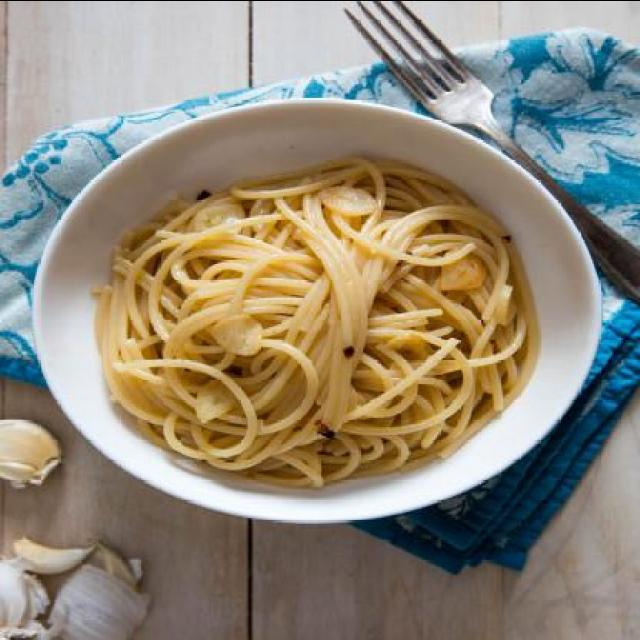Oil pasta: (57, 77, 600, 503)
